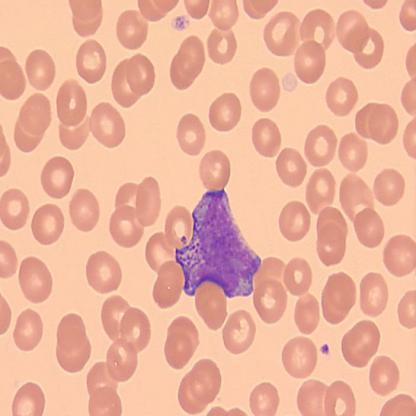Promyelocyte: (174, 188, 260, 296)
